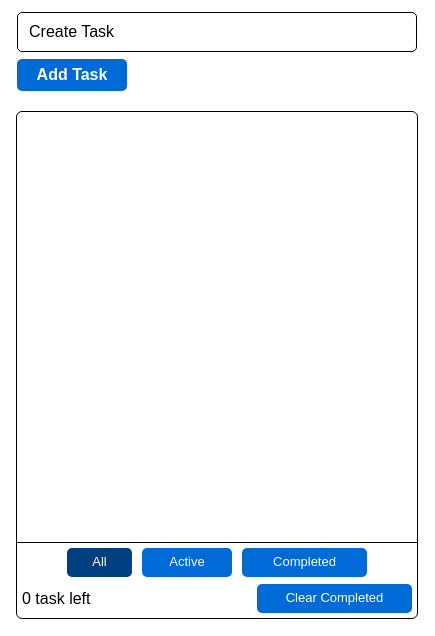
Test: Todo Component › allows adding new tasks
Type "New Task" into the field at (217, 32), box [17,12,417,52]
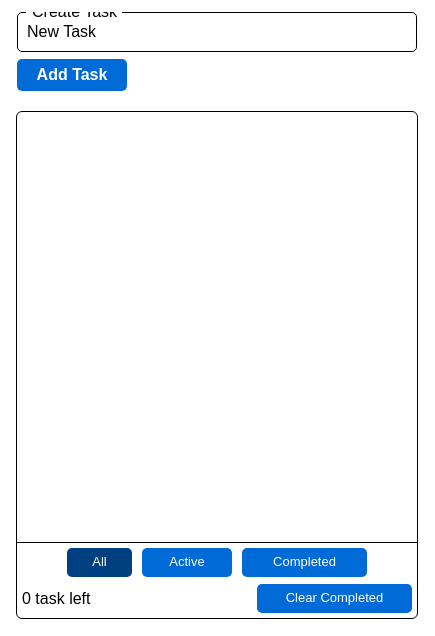
Submit the form with class "form", box [17,12,417,91]
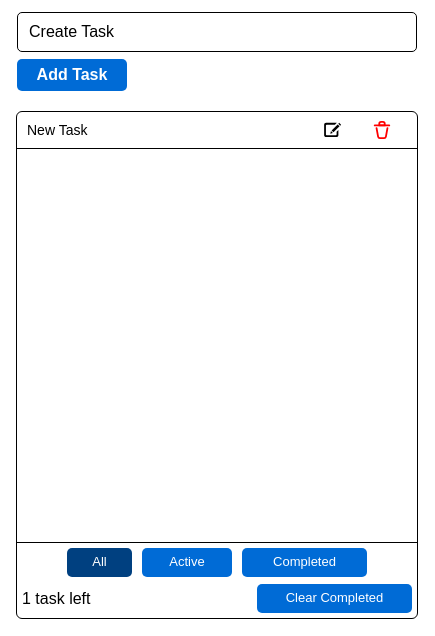
Now the text "New Task" is shown, box [27,122,87,138]
